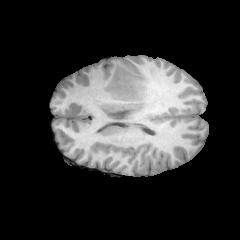glioma: (104, 66, 148, 113)
